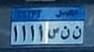1: (12, 25, 18, 43), (38, 23, 43, 44), (29, 24, 35, 41), (22, 24, 27, 41)
noon: (60, 25, 70, 42), (72, 25, 82, 41)
seen: (48, 24, 59, 41)
